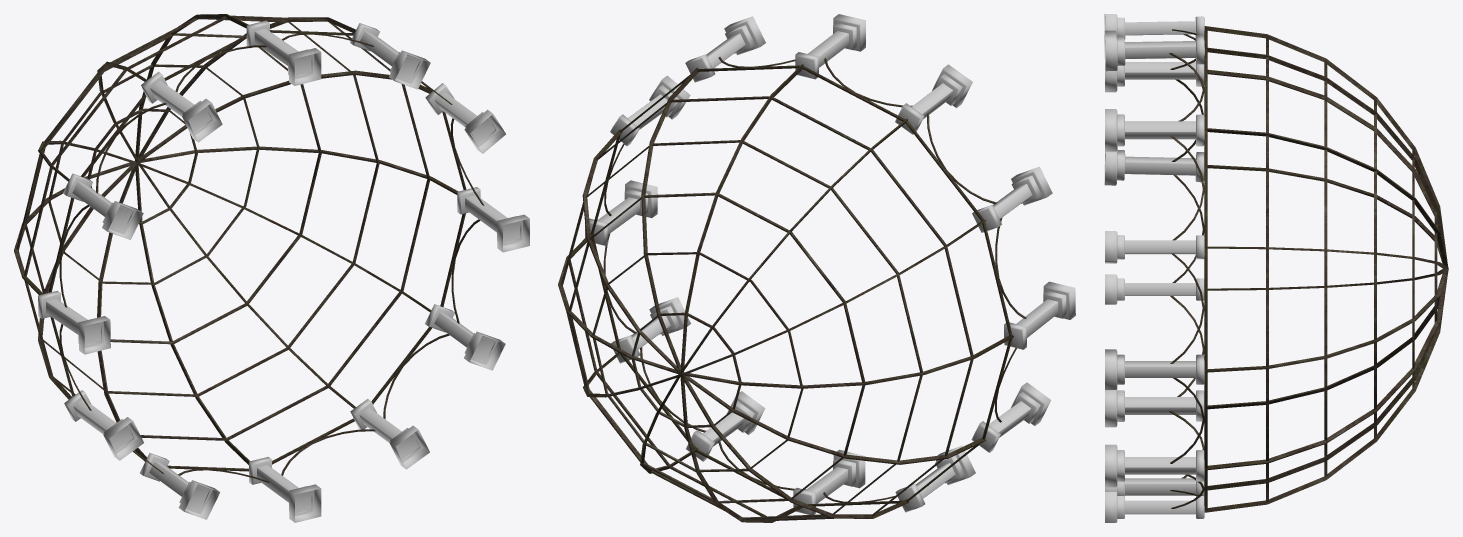
The model's file is TI_Dome_01.fbx.
The picture shows the model from 3 angles, left to right: view 1: azimuth 30°, elevation 25°; view 2: azimuth 150°, elevation 25°; view 3: azimuth 270°, elevation 25°; orthographic projection.
Visible parts, largest first — view 1: Ti_Dome_01, TI_Dome_Pillars_01; view 2: Ti_Dome_01, TI_Dome_Pillars_01; view 3: Ti_Dome_01, TI_Dome_Pillars_01.
Boxes of the visible parts, bbox=[...] form: Ti_Dome_01: bbox=[14, 14, 484, 482]; TI_Dome_Pillars_01: bbox=[38, 20, 529, 522]; Ti_Dome_01: bbox=[558, 57, 1026, 522]; TI_Dome_Pillars_01: bbox=[585, 14, 1075, 514]; Ti_Dome_01: bbox=[1169, 26, 1448, 512]; TI_Dome_Pillars_01: bbox=[1104, 14, 1204, 522].
Bounding box in the file's own units: 23.91 × 23.82 × 16.01.
